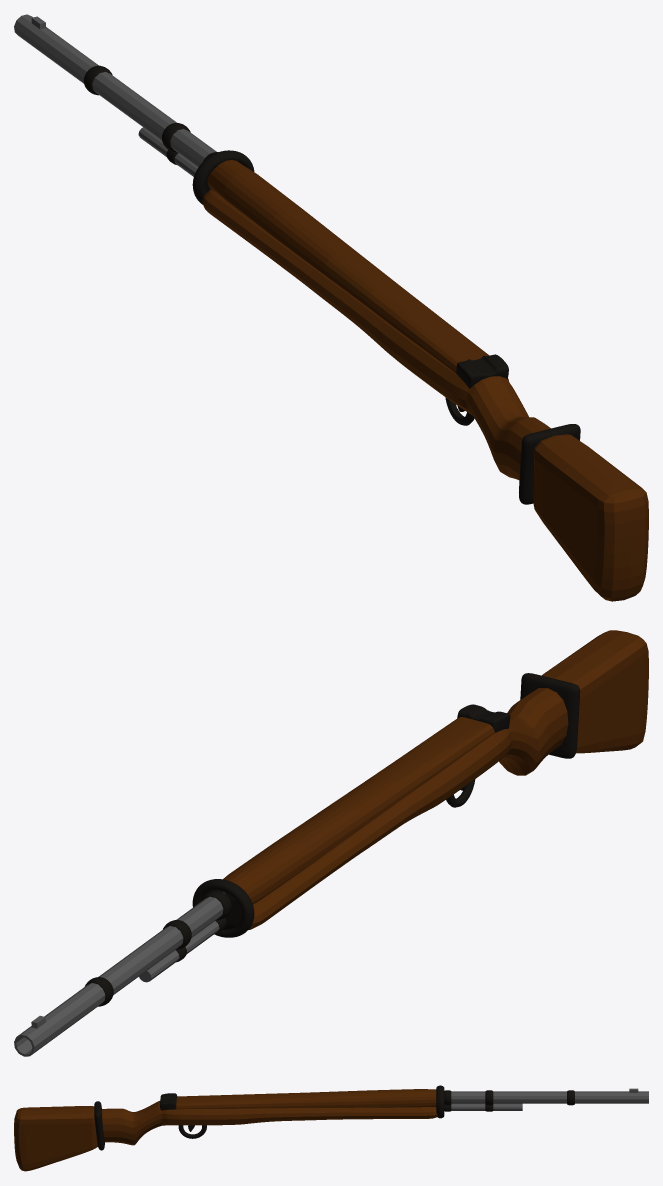
The model's file is NewRifleColour.fbx.
3 views of the same model, one above another, from view 1: azimuth 30°, elevation 25°; view 2: azimuth 150°, elevation 25°; view 3: azimuth 270°, elevation 25° (orthographic). The views are drawn at different scales.
Parts seen in each view (by area): view 1: Base, Cylinder, Cube, Cylinder.001, Cube.001, Cube.002, Torus.002; view 2: Cube, Cylinder, Base, Cylinder.001, Cube.001, Torus.002, Cylinder.002, Cube.002; view 3: Cube, Base, Cylinder, Cylinder.001, Cube.001, Cylinder.002, Torus.002, Cube.002, Cube.004.
Part boxes in pixels (bbox=[...]): Base: bbox=[533, 434, 648, 601]; Cylinder: bbox=[207, 160, 489, 373]; Cube: bbox=[202, 189, 550, 480]; Cylinder.001: bbox=[14, 14, 216, 167]; Cube.001: bbox=[192, 150, 580, 504]; Cube.002: bbox=[456, 354, 508, 388]; Torus.002: bbox=[83, 65, 217, 165]; Cube: bbox=[248, 688, 568, 929]; Cylinder: bbox=[223, 717, 494, 904]; Base: bbox=[542, 630, 648, 753]; Cylinder.001: bbox=[14, 892, 224, 1056]; Cube.001: bbox=[192, 673, 580, 937]; Torus.002: bbox=[84, 890, 231, 1006]; Cylinder.002: bbox=[139, 921, 219, 982]; Cube.002: bbox=[457, 704, 510, 732]; Cube: bbox=[101, 1101, 437, 1145]; Base: bbox=[14, 1106, 97, 1171]; Cylinder: bbox=[176, 1089, 436, 1109]; Cylinder.001: bbox=[451, 1088, 648, 1103]; Cube.001: bbox=[94, 1085, 444, 1150]; Cylinder.002: bbox=[451, 1103, 522, 1110]; Torus.002: bbox=[444, 1090, 574, 1111]; Cube.002: bbox=[160, 1093, 176, 1110]; Cube.004: bbox=[178, 1125, 206, 1138].
Bounding box in the file's own units: 28.73 × 71.87 × 506.
